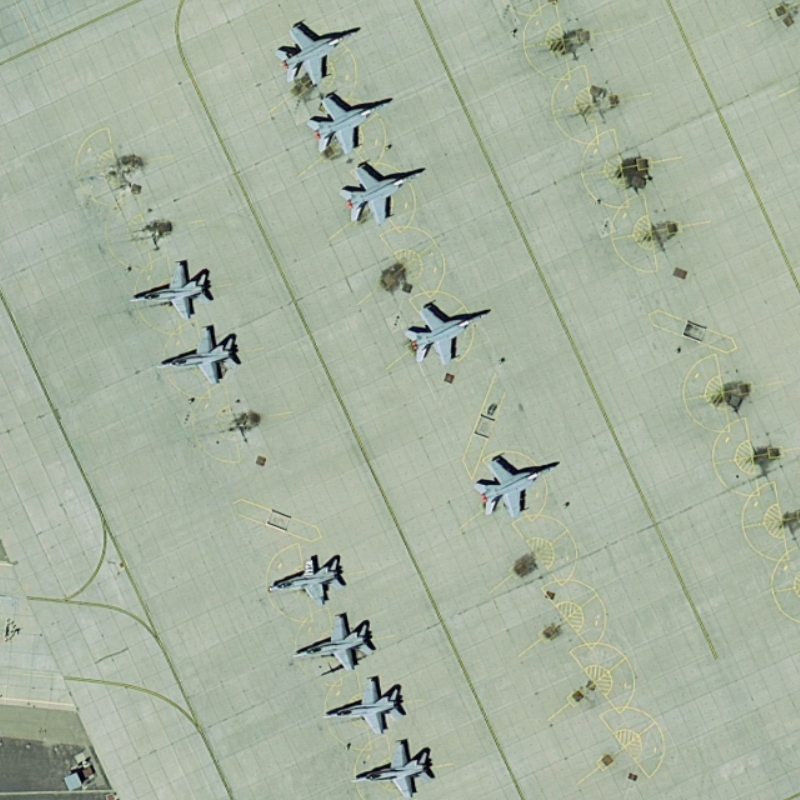A16: (265, 11, 367, 92), (332, 155, 432, 231), (300, 87, 401, 158), (471, 449, 567, 522), (149, 321, 247, 389), (404, 295, 495, 368), (126, 253, 218, 322), (343, 736, 438, 800), (286, 610, 379, 674), (317, 673, 410, 735), (264, 550, 354, 605)
